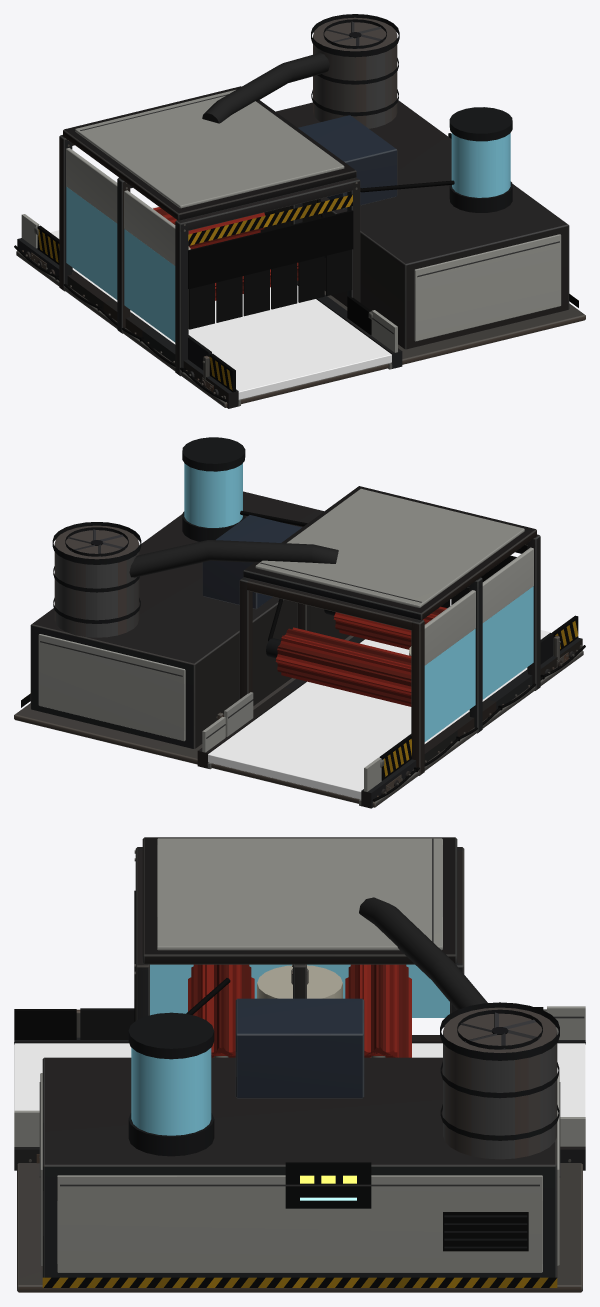
Rendered from polisher.glb.
The picture shows the model from 3 angles, top to bottom: view 1: azimuth 30°, elevation 25°; view 2: azimuth 150°, elevation 25°; view 3: azimuth 270°, elevation 25°; orthographic projection. The views are drawn at different scales.
Visible parts, largest first — view 1: Frame, Belt, BrushB; view 2: Frame, Belt, BrushB, BrushA; view 3: Frame, Belt, BrushB, BrushA, Buffer, Fan.
Part boxes in pixels (x1=…): Frame: x1=14, y1=14, x2=585, y2=408; Belt: x1=50, y1=206, x2=391, y2=399; BrushB: x1=153, y1=207, x2=265, y2=249; Frame: x1=14, y1=437, x2=585, y2=808; Belt: x1=208, y1=630, x2=551, y2=799; BrushB: x1=275, y1=627, x2=411, y2=706; BrushA: x1=333, y1=606, x2=446, y2=649; Frame: x1=14, y1=837, x2=585, y2=1292; Belt: x1=14, y1=1043, x2=585, y2=1116; BrushB: x1=345, y1=964, x2=411, y2=1057; BrushA: x1=188, y1=964, x2=254, y2=1057; Buffer: x1=257, y1=965, x2=342, y2=998; Fan: x1=460, y1=1012, x2=539, y2=1049.
Size of the model in its own units: 3.99 by 1.85 by 4.
